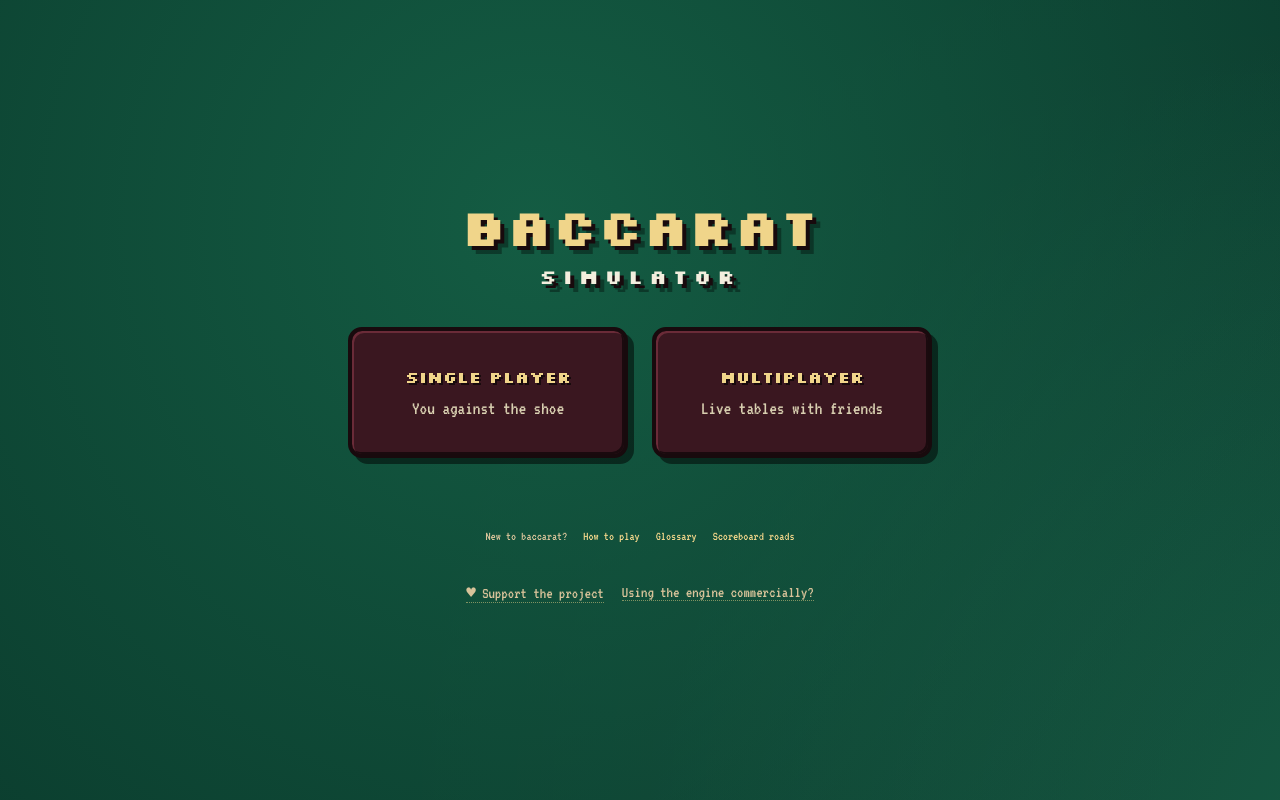
Test: the menu carries one quiet ask, and it never follows you toward the felt
The width and height of the screenshot is (1280, 800).
Click the button "Single Player You against the shoe". click: [488, 377]
box: 348,327 -> 628,458
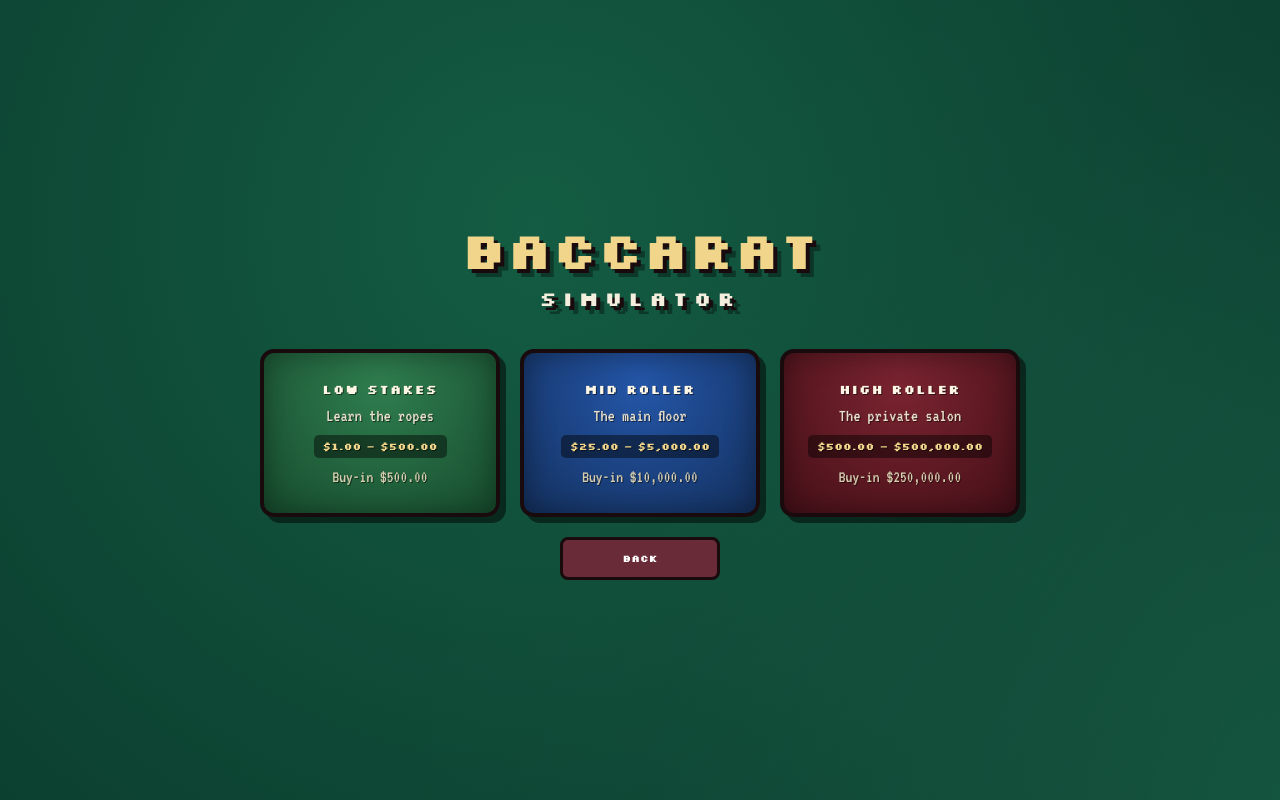
Expected: the link "Support the project" is gone
